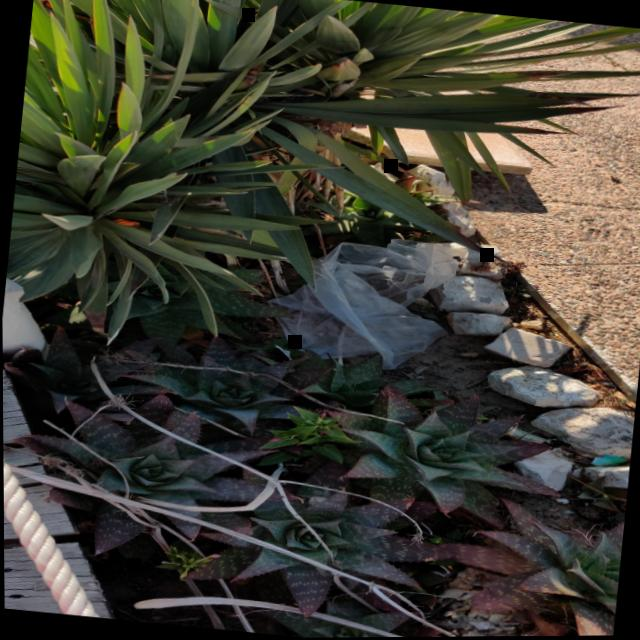Other plastic: (503, 426, 545, 443)
Plastic film: (265, 238, 466, 369), (588, 454, 626, 466)
